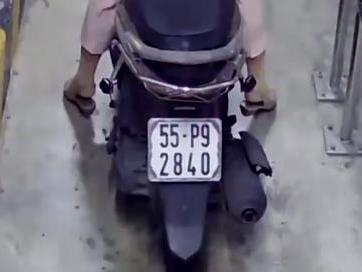num_plate: (148, 118, 223, 182)
